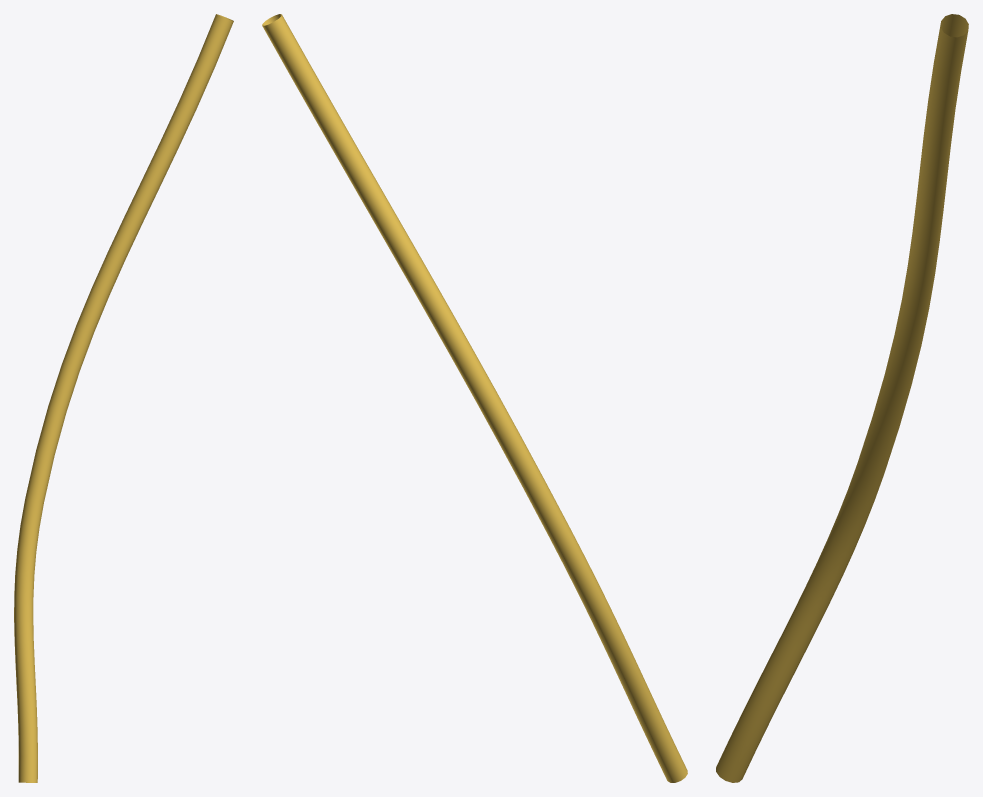
Rendered from Brachial_plexus_right.glb.
3 views of the same model, side by side, from view 1: azimuth 30°, elevation 25°; view 2: azimuth 150°, elevation 25°; view 3: azimuth 270°, elevation 25° (orthographic). The views are drawn at different scales.
Parts seen in each view (by area): view 1: Brachial_plexus.r_BezierCurve.546; view 2: Brachial_plexus.r_BezierCurve.546; view 3: Brachial_plexus.r_BezierCurve.546.
Part boxes in pixels (<box>): Brachial_plexus.r_BezierCurve.546: <box>14,14,233,782</box>; Brachial_plexus.r_BezierCurve.546: <box>262,14,687,782</box>; Brachial_plexus.r_BezierCurve.546: <box>716,14,968,782</box>.
Size of the model in its own units: 0.0169 by 0.0364 by 0.00872.
